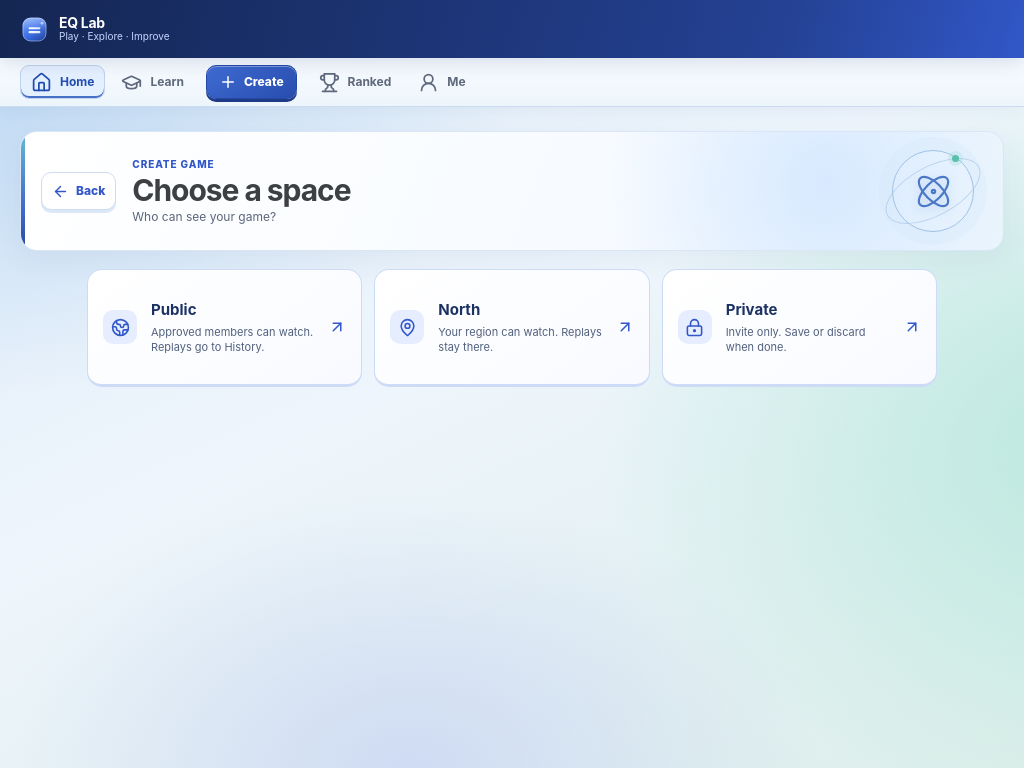
Test: choosing ArchBot › is not offered while the catalog keeps it pending, and says so
The image size is (1024, 768).
Click the button "Public Approved members can watch. Replays go to History." at (225, 328), box [87, 269, 362, 387]
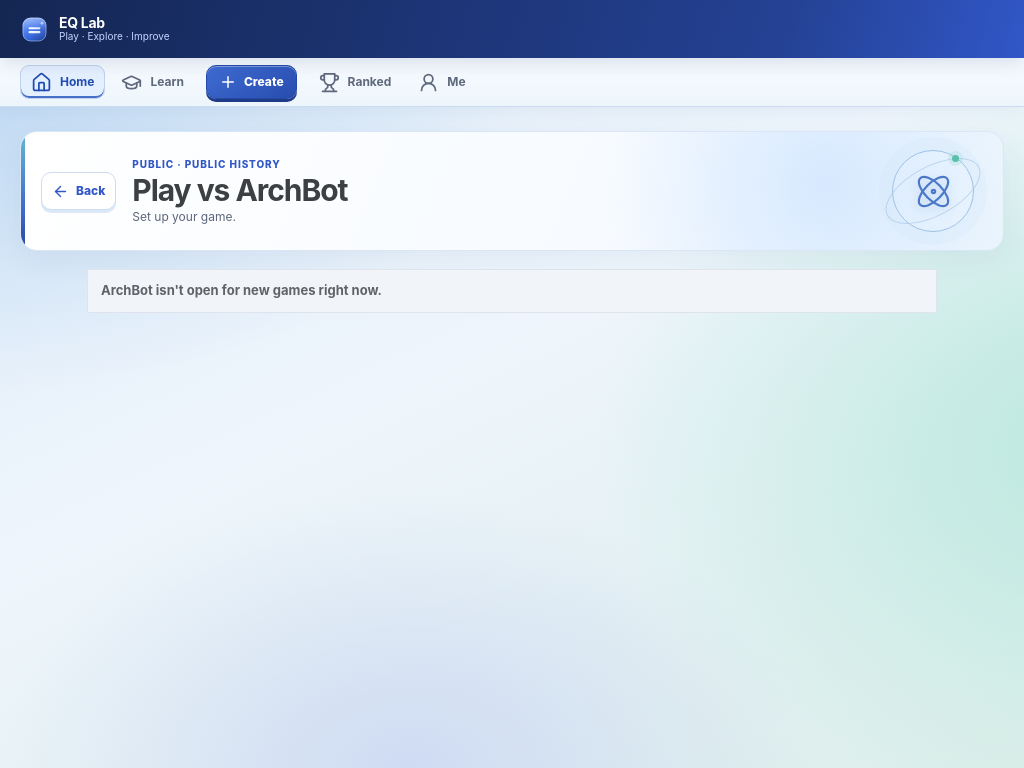
Now the text "ArchBot isn't open for new games right now." is shown, box [87, 269, 937, 312]
